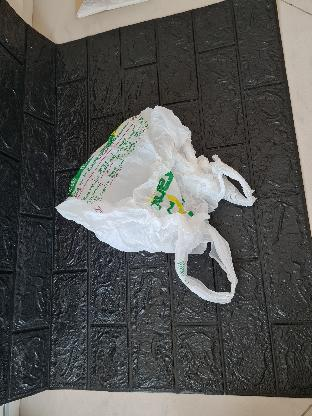Plastic Bag: (48, 100, 266, 312)
